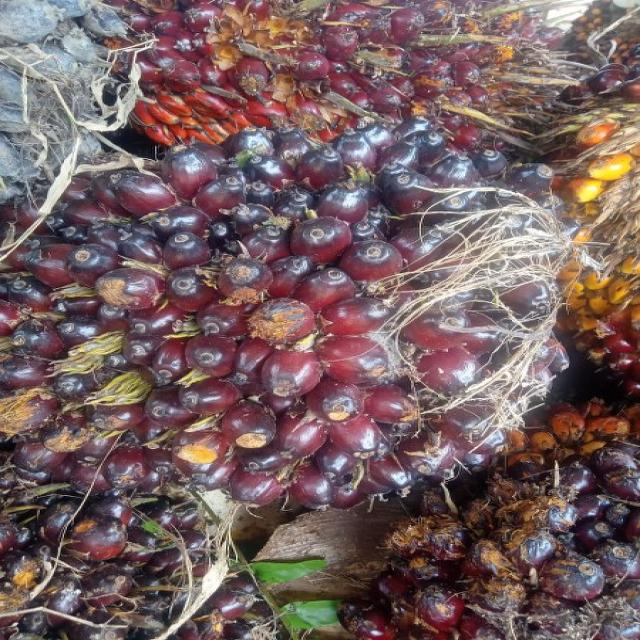fraksi 1: (1, 127, 569, 495)
